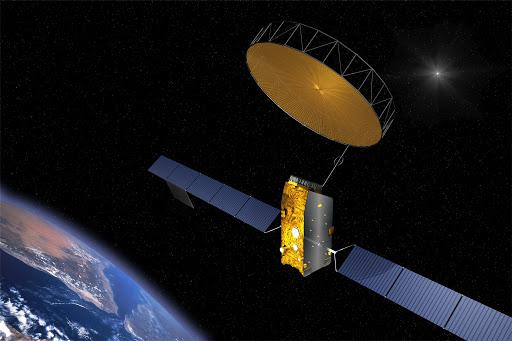antenna: (246, 40, 385, 149), (291, 227, 301, 239), (292, 243, 299, 253), (279, 245, 285, 255), (297, 257, 302, 263)
body: (278, 180, 335, 279)
solar: (333, 241, 512, 341), (145, 153, 286, 234)
